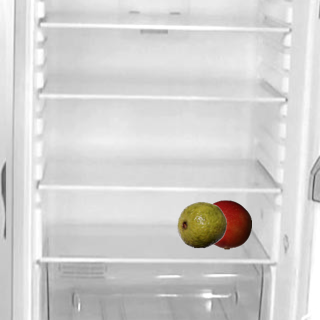Apple Braeburn: (201, 199, 251, 249)
Guava: (176, 199, 226, 249)
